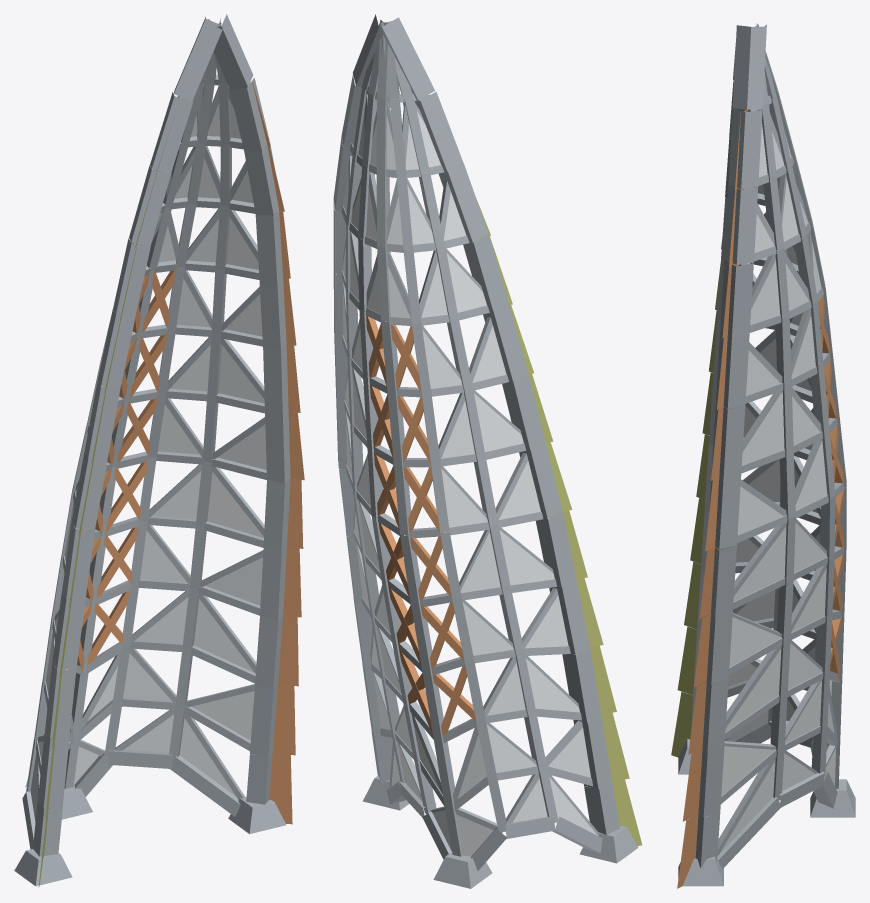
File: ascendus.glb
3 renders of one model, left to right at view 1: azimuth 30°, elevation 25°; view 2: azimuth 150°, elevation 25°; view 3: azimuth 270°, elevation 25°, orthographic. The views are drawn at different scales.
Visible parts, largest first — view 1: Ascendus; view 2: Ascendus; view 3: Ascendus.
Boxes of the visible parts, bbox=[...] form: Ascendus: bbox=[14, 14, 304, 887]; Ascendus: bbox=[333, 14, 642, 888]; Ascendus: bbox=[671, 23, 855, 888].
Size of the model in its own units: 6.86 by 18.59 by 3.64.
